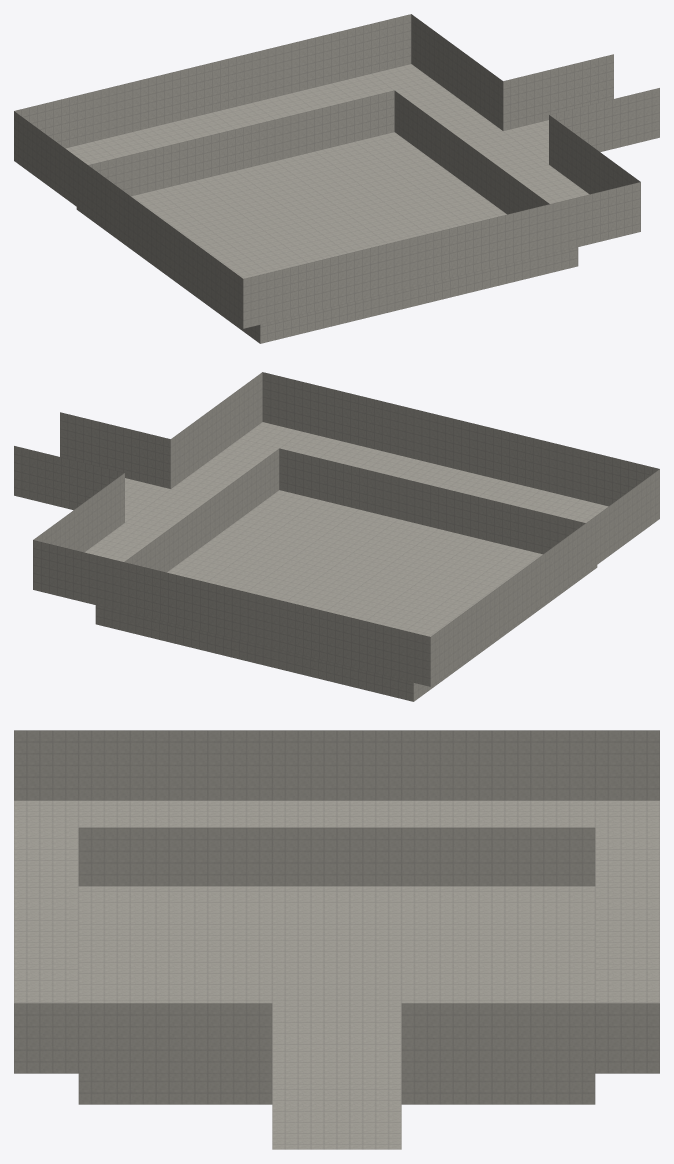
Rendered from ms3302_12_start_03.FBX.
3 views of the same model, one above another, from view 1: azimuth 30°, elevation 25°; view 2: azimuth 150°, elevation 25°; view 3: azimuth 270°, elevation 25° (orthographic). The views are drawn at different scales.
Visible parts, largest first — view 1: Plane001; view 2: Plane001; view 3: Plane001.
Boxes of the visible parts, <box> form: Plane001: <box>14,14,659,343</box>; Plane001: <box>14,372,659,701</box>; Plane001: <box>14,730,659,1149</box>.
Size of the model in its own units: 6395 by 1100 by 5000.
